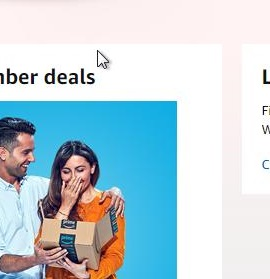cursor: (94, 47, 111, 72)
